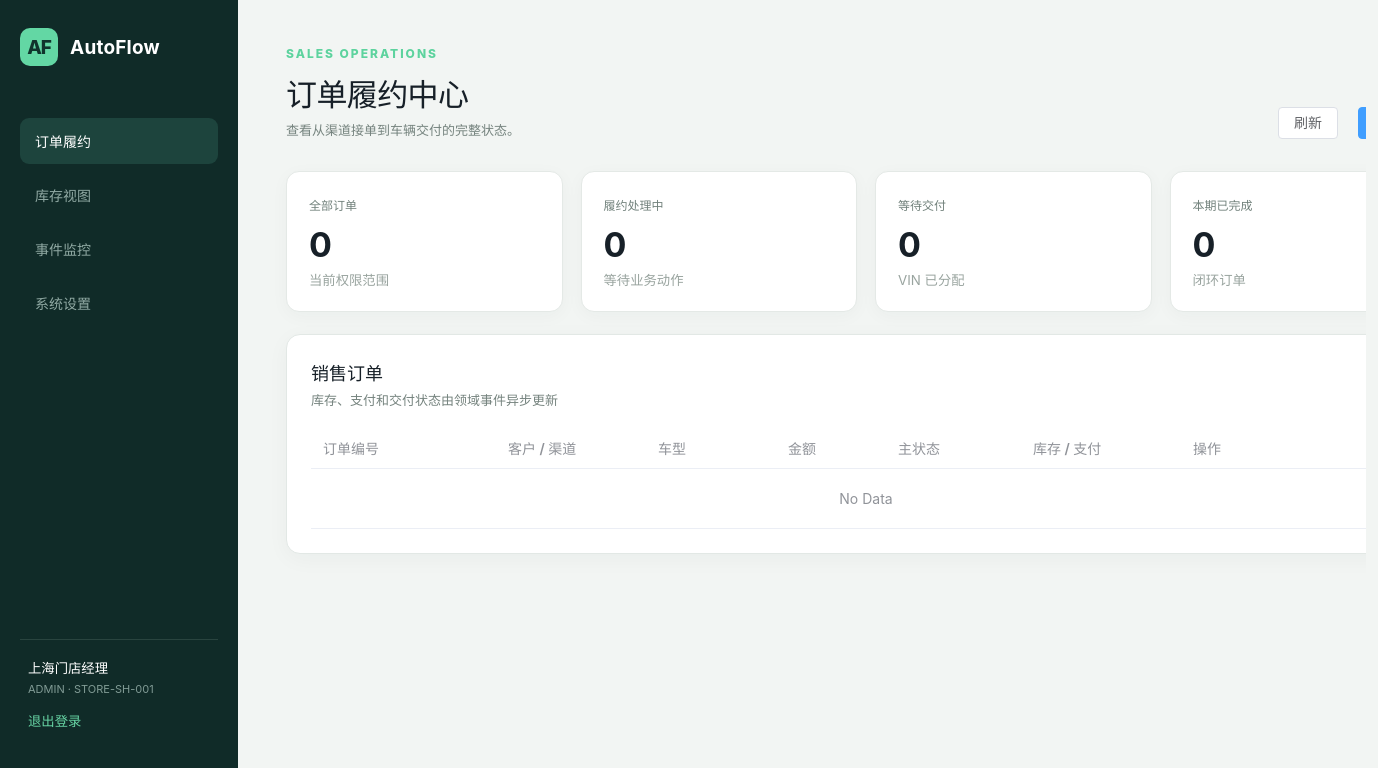
Test case: sidebar navigation › switches to 库存视图 when its menu item is clicked
Click the button "库存视图": (119, 195) [20,172,218,218]
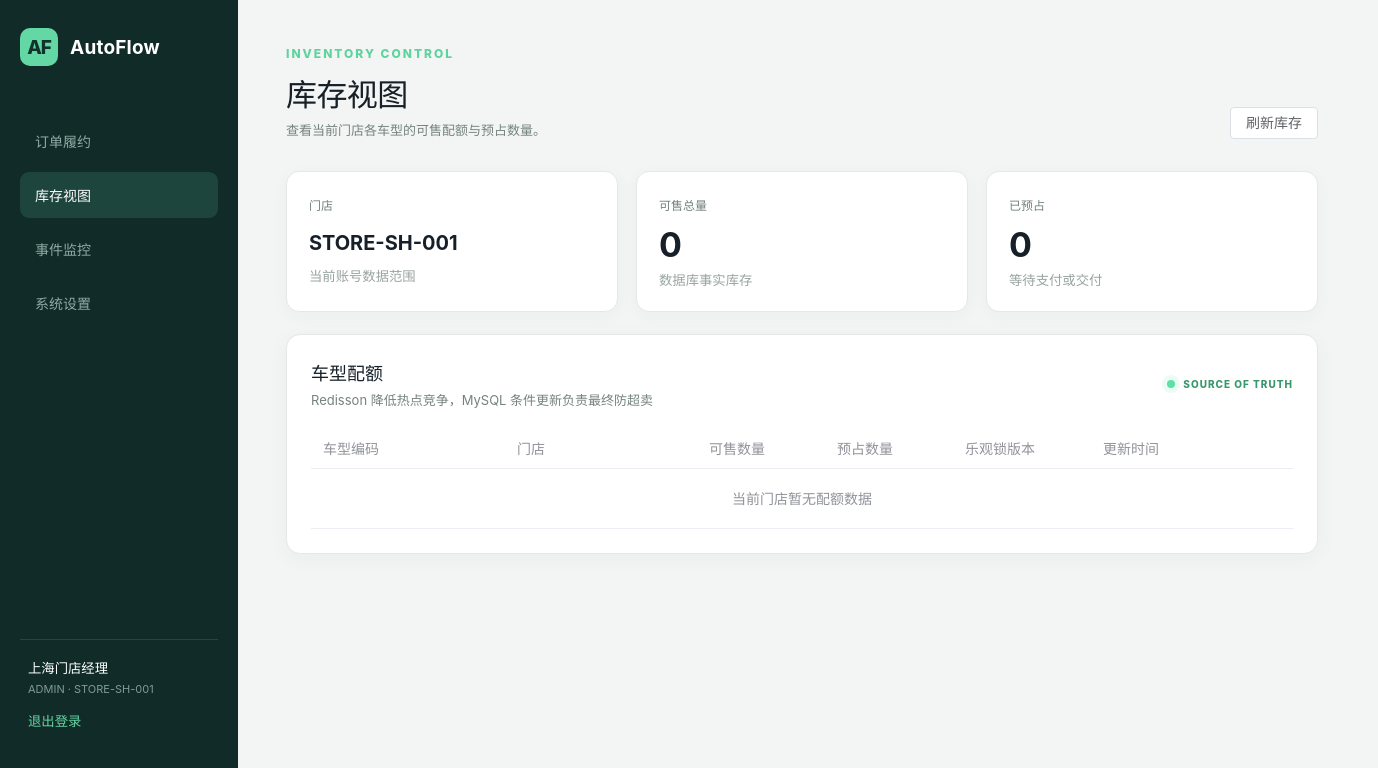
Result: the heading "库存视图" is shown at [286,76,408,113]
